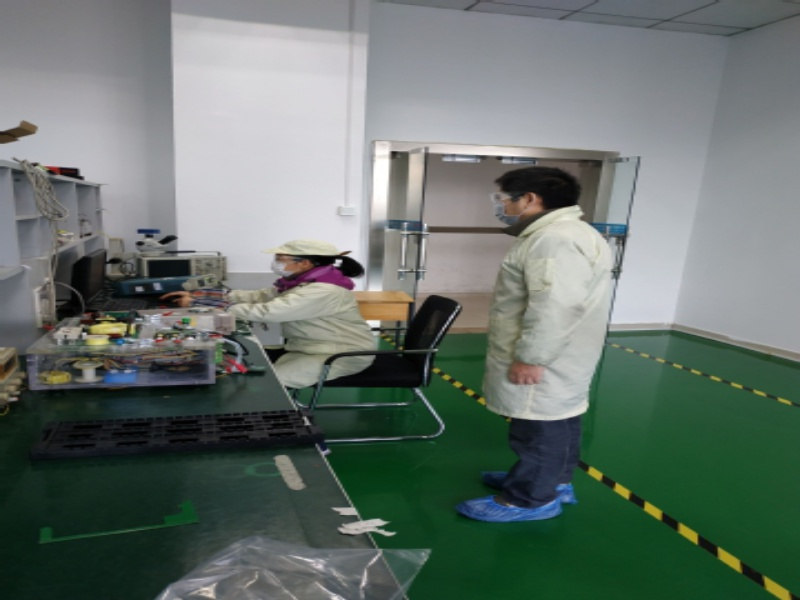ManaoArotava: (266, 232, 326, 298)
